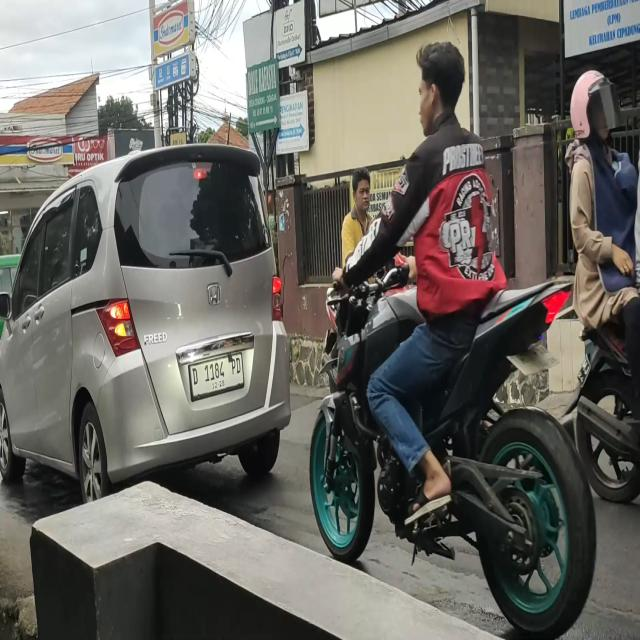no-helmet: (420, 43, 462, 132), (353, 168, 370, 208)
